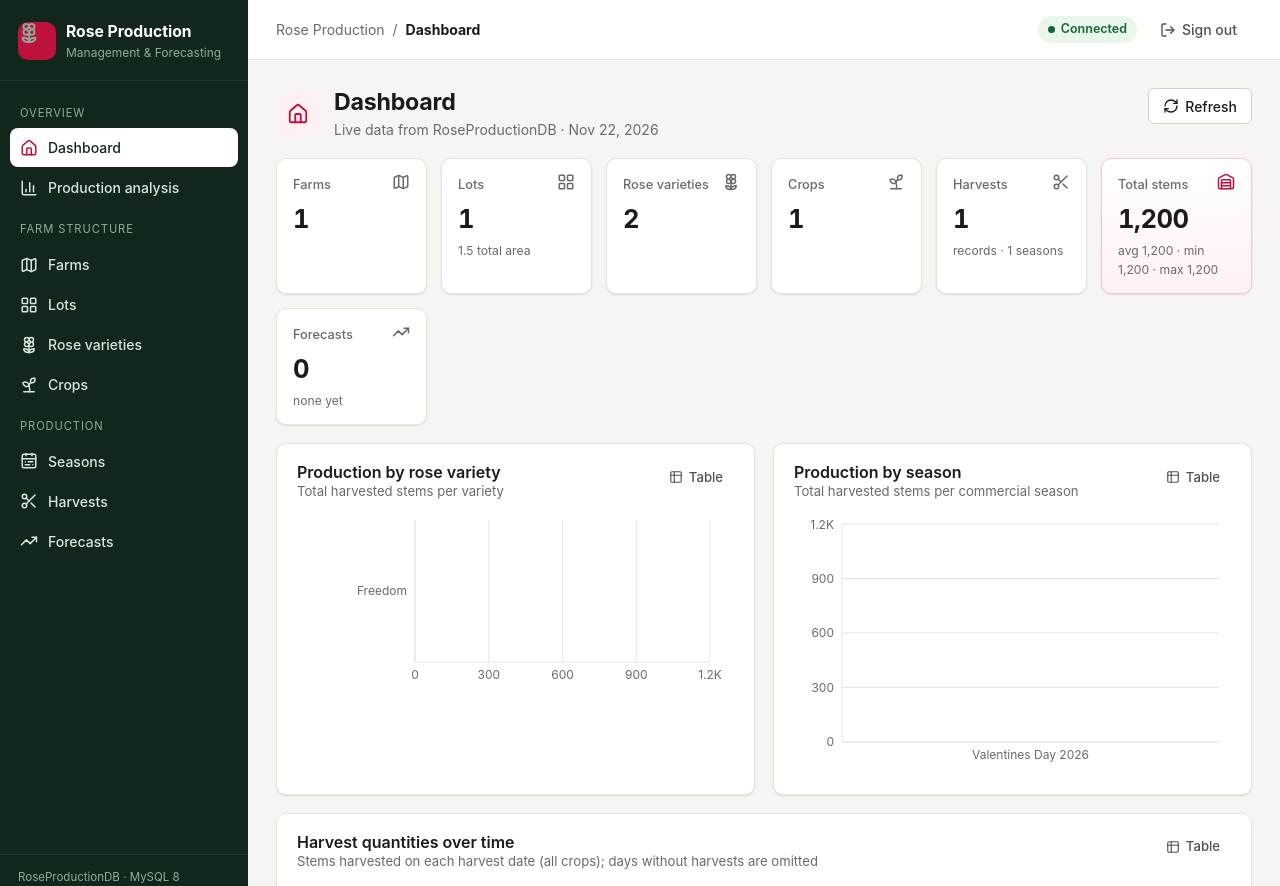
Test: navigation and dashboard › navigates to Lots from the sidebar
This screenshot has width=1280, height=886.
Expected: the heading "Dashboard" is shown, [334,88,456,116]
Click the link "Lots": (48, 305) [20,296,77,314]
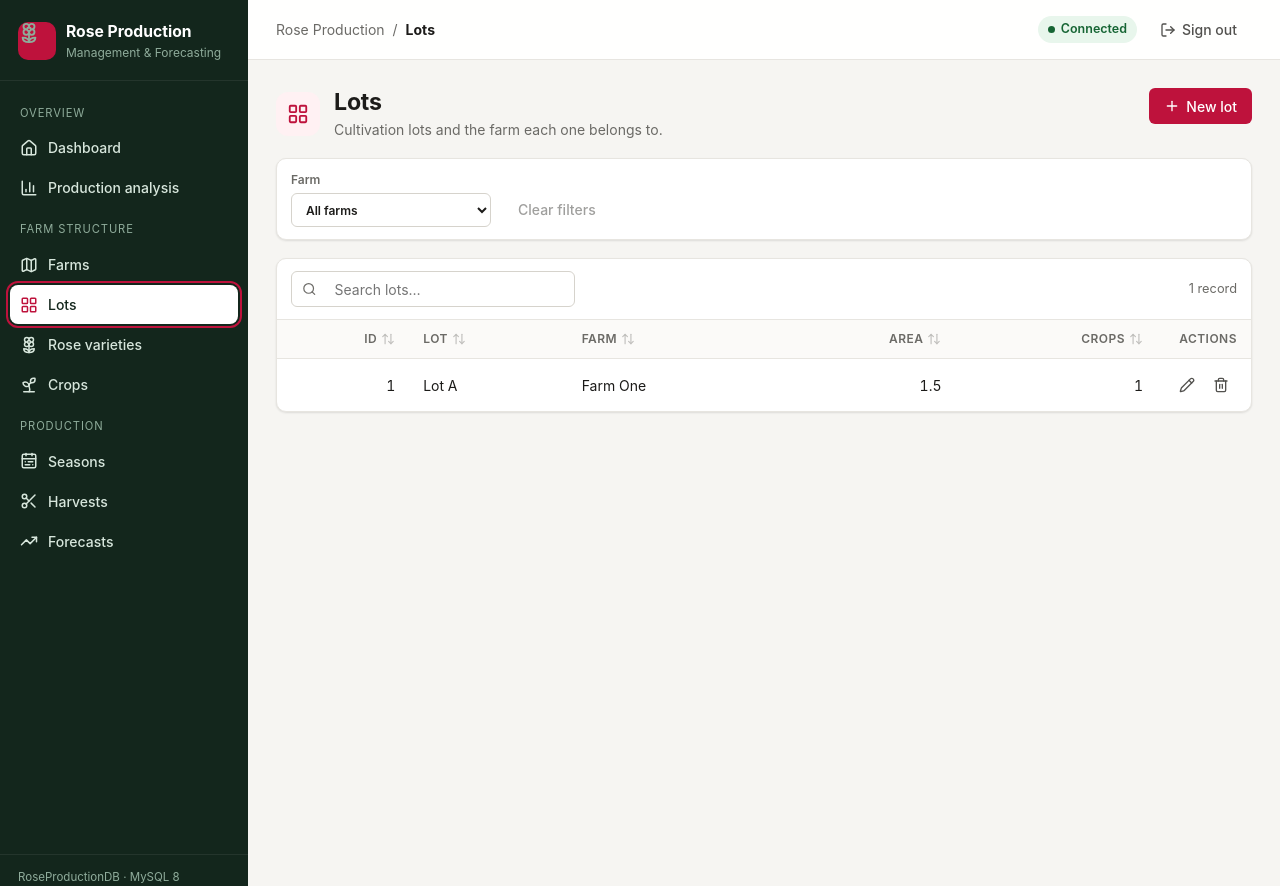
Now the heading "Lots" is shown, box [334,88,382,116]
Now the text "Lot A" is shown, box [409,358,568,411]
